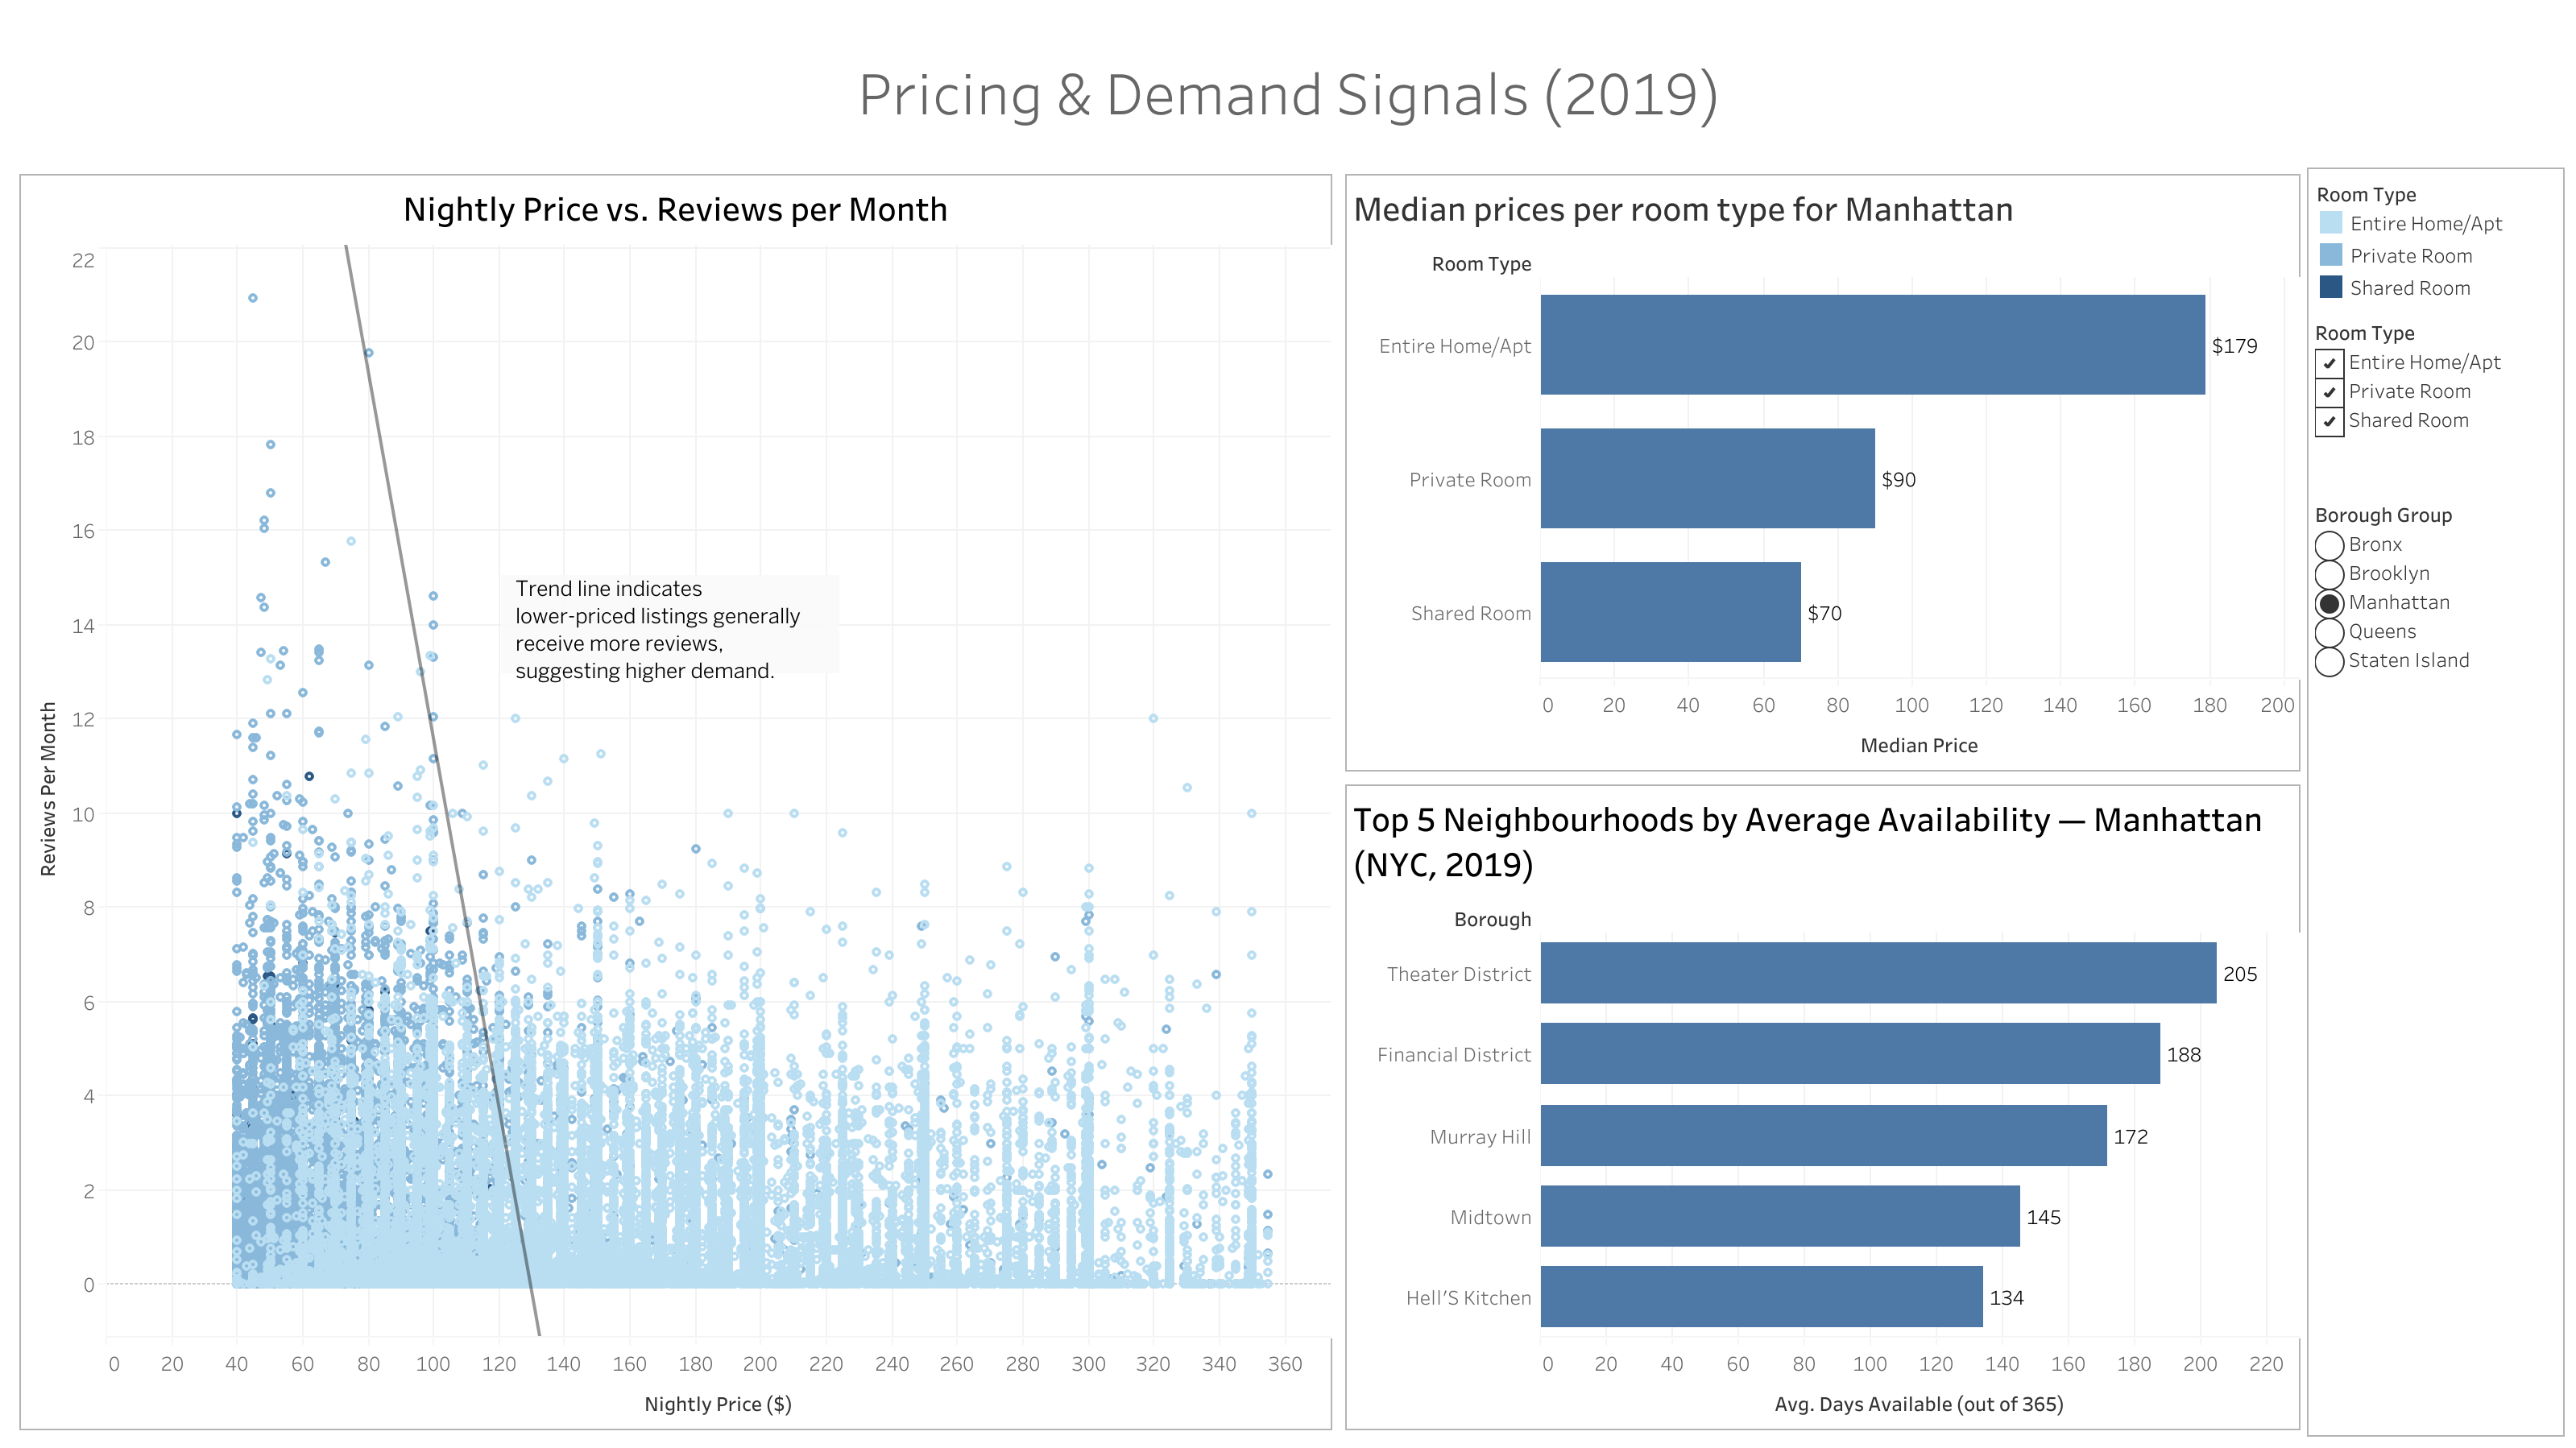

This screenshot's page, from the dashboard's own definition file:
{"tool":"tableau","page":{"name":"Pricing & Demand Signals","canvas":[1600,900],"ordinal":3},"visuals":[{"type":"text","box":[8,8,1584,96]},{"type":"worksheet","title":"Price vs Reviews","mark":"Shape","rows":["reviews_per_month"],"cols":["price"],"box":[8,104,823,788]},{"type":"worksheet","title":"Median Price Per Room Type","mark":"Automatic","rows":["room_type"],"cols":["price"],"box":[831,104,601,379]},{"type":"legend","title":"Price vs Reviews","param":"[federated.12w0qk70lazwvx0zwfm3r1wuq8je].[none:room_type:nk]","box":[1433,105,158,86]},{"type":"filter","title":"Price vs Reviews","param":"[federated.12w0qk70lazwvx0zwfm3r1wuq8je].[none:room_type:nk]","box":[1433,191,158,108]},{"type":"filter","title":"Median Price Per Room Type","param":"[federated.12w0qk70lazwvx0zwfm3r1wuq8je].[none:neighbourhood_group:nk]","box":[1433,299,158,146]},{"type":"worksheet","title":"Availability by Neighbourhood","mark":"Automatic","rows":["neighbourhood"],"cols":["availability_365"],"box":[831,483,601,409]}]}

Visuals, with their boxes in screenshot pixels (x1, y1, x2, y2), scaled from the page's 1600x900 canvas onto the 2576x1448 screenshot:
text: 13:13:2563:168
"Price vs Reviews" worksheet (Shape marks): 13:168:1338:1435
"Median Price Per Room Type" worksheet: 1338:168:2305:777
"Price vs Reviews" legend: 2307:169:2562:308
"Price vs Reviews" filter: 2307:308:2562:481
"Median Price Per Room Type" filter: 2307:481:2562:716
"Availability by Neighbourhood" worksheet: 1338:777:2305:1435
